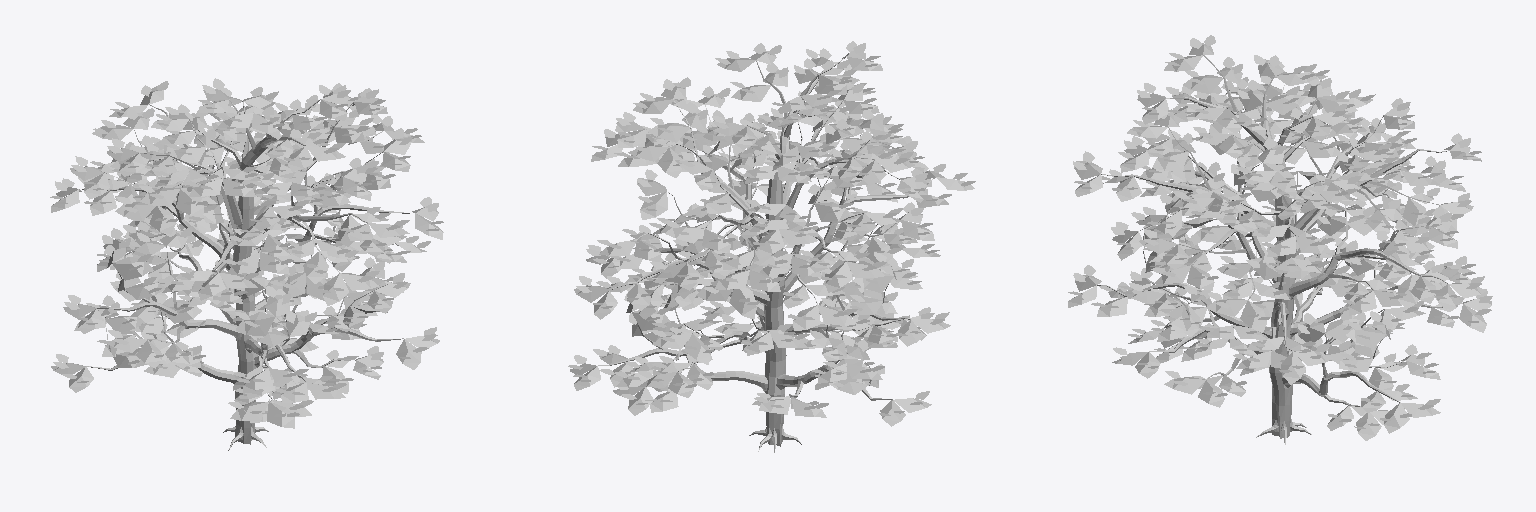
Rendered from TestSpeedTree.obj.
The picture shows the model from 3 angles: view 1: azimuth 30°, elevation 25°; view 2: azimuth 150°, elevation 25°; view 3: azimuth 270°, elevation 25°; orthographic projection.
Parts seen in each view (by area): view 1: TestSpeedTreeSG; view 2: TestSpeedTreeSG; view 3: TestSpeedTreeSG.
Boxes of the visible parts, x1,y1,x2,y2 form: TestSpeedTreeSG: [50, 78, 443, 450]; TestSpeedTreeSG: [568, 41, 975, 452]; TestSpeedTreeSG: [1068, 35, 1492, 444].
Bounding box in the file's own units: 64.18 × 63.6 × 66.52.